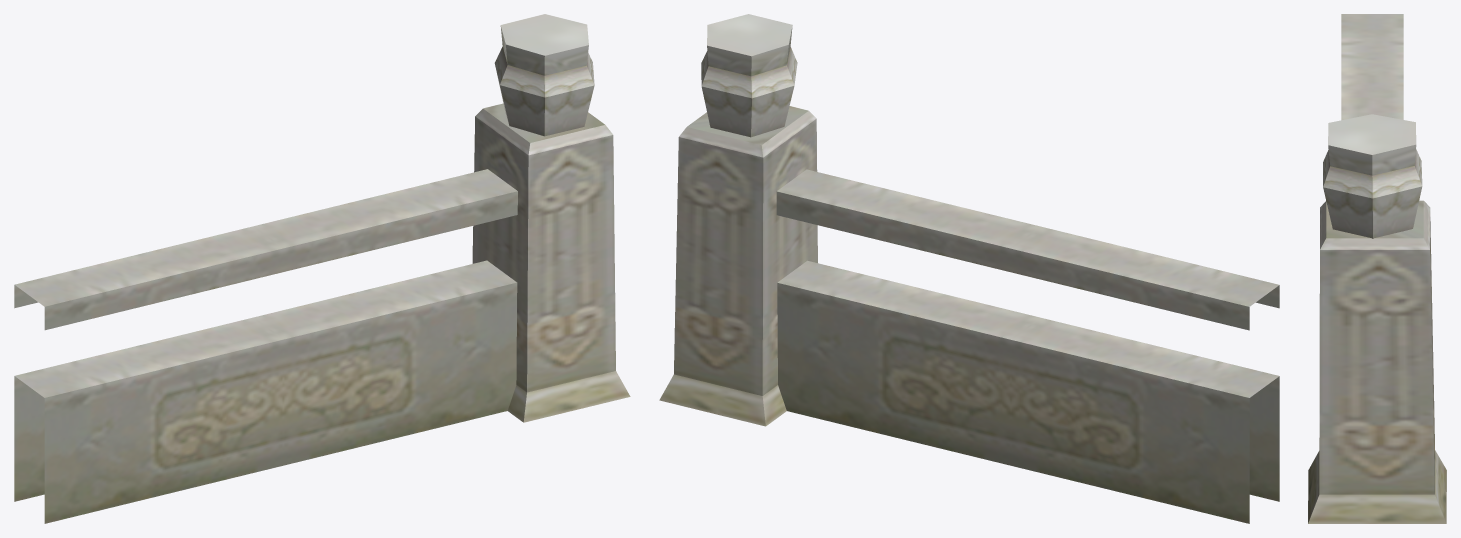
File: W3_HD_GongHuiBoss_hulan_01_02_D.FBX
The picture shows the model from 3 angles, left to right: view 1: azimuth 30°, elevation 25°; view 2: azimuth 150°, elevation 25°; view 3: azimuth 270°, elevation 25°; orthographic projection. The views are drawn at different scales.
Visible parts, largest first — view 1: W3_HD_GongHuiBoss_hulan_01_02_D; view 2: W3_HD_GongHuiBoss_hulan_01_02_D; view 3: W3_HD_GongHuiBoss_hulan_01_02_D.
Boxes of the visible parts, <box> form: W3_HD_GongHuiBoss_hulan_01_02_D: <box>14,14,630,523</box>; W3_HD_GongHuiBoss_hulan_01_02_D: <box>659,14,1279,523</box>; W3_HD_GongHuiBoss_hulan_01_02_D: <box>1308,14,1446,523</box>.
Size of the model in its own units: 3.03 by 1.79 by 0.6216.
